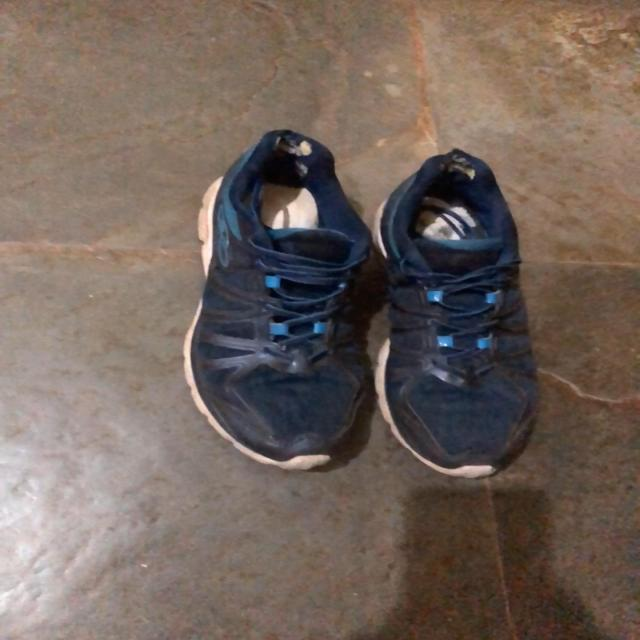shoe: (184, 130, 372, 474), (377, 149, 540, 482)
